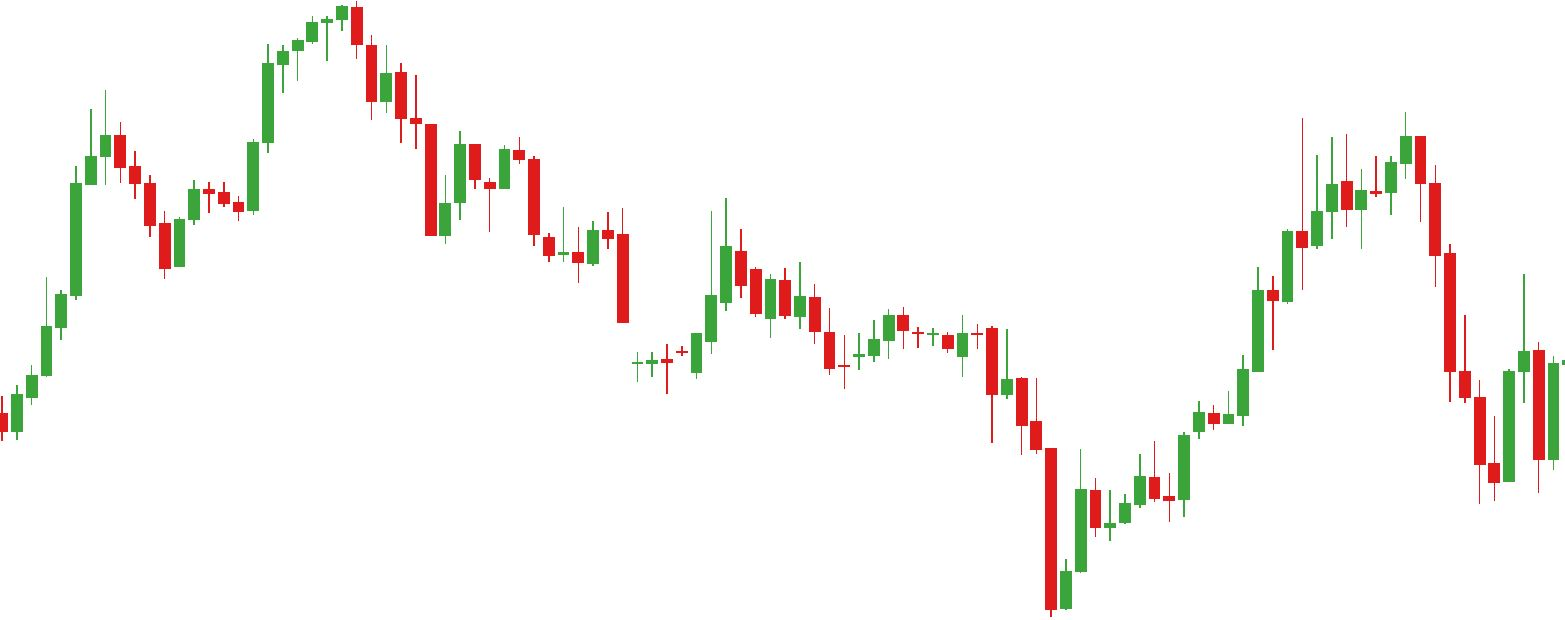sell: (1292, 105, 1426, 243)
